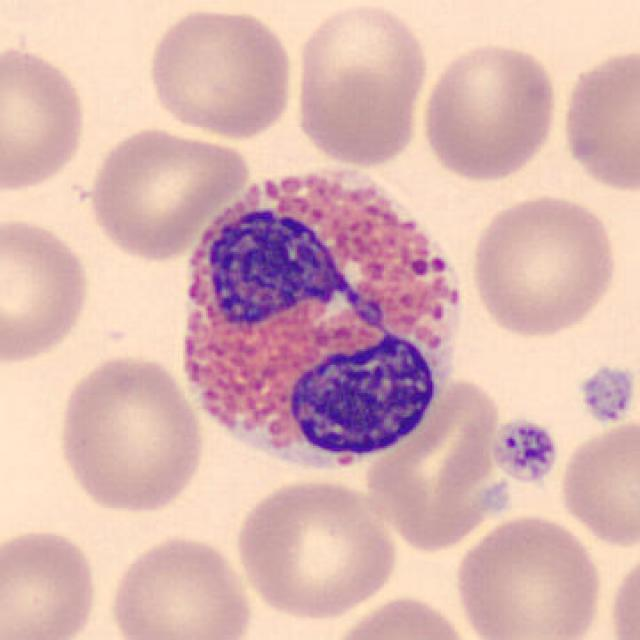Eosinophil: (160, 144, 482, 488)
Platelets: (489, 414, 560, 483), (576, 362, 636, 428)
RBC: (52, 351, 210, 516), (231, 472, 400, 622), (288, 0, 432, 169), (84, 123, 252, 263), (466, 190, 620, 338), (418, 37, 562, 185), (142, 4, 297, 141), (449, 509, 606, 640), (105, 530, 256, 640), (0, 212, 94, 368), (0, 40, 91, 194), (556, 42, 638, 196), (0, 523, 103, 640), (555, 416, 638, 550), (324, 592, 478, 640), (606, 545, 640, 640)
